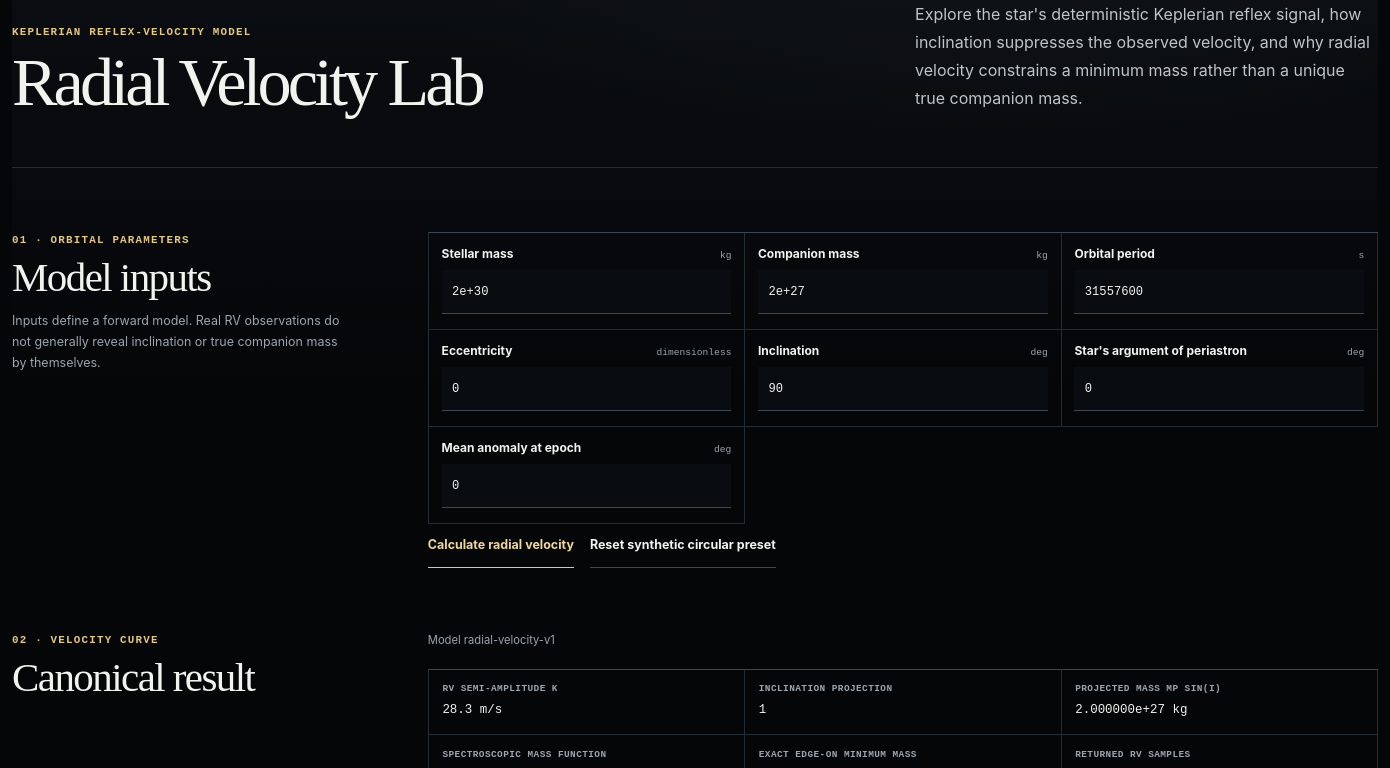
Test: RadialVelocityView › commits only an accepted echoed API state to the share URL
This screenshot has width=1390, height=768.
Replace the text in the number field labelled "Inclination deg" with "40" at (903, 389), box [758,367,1048,411]
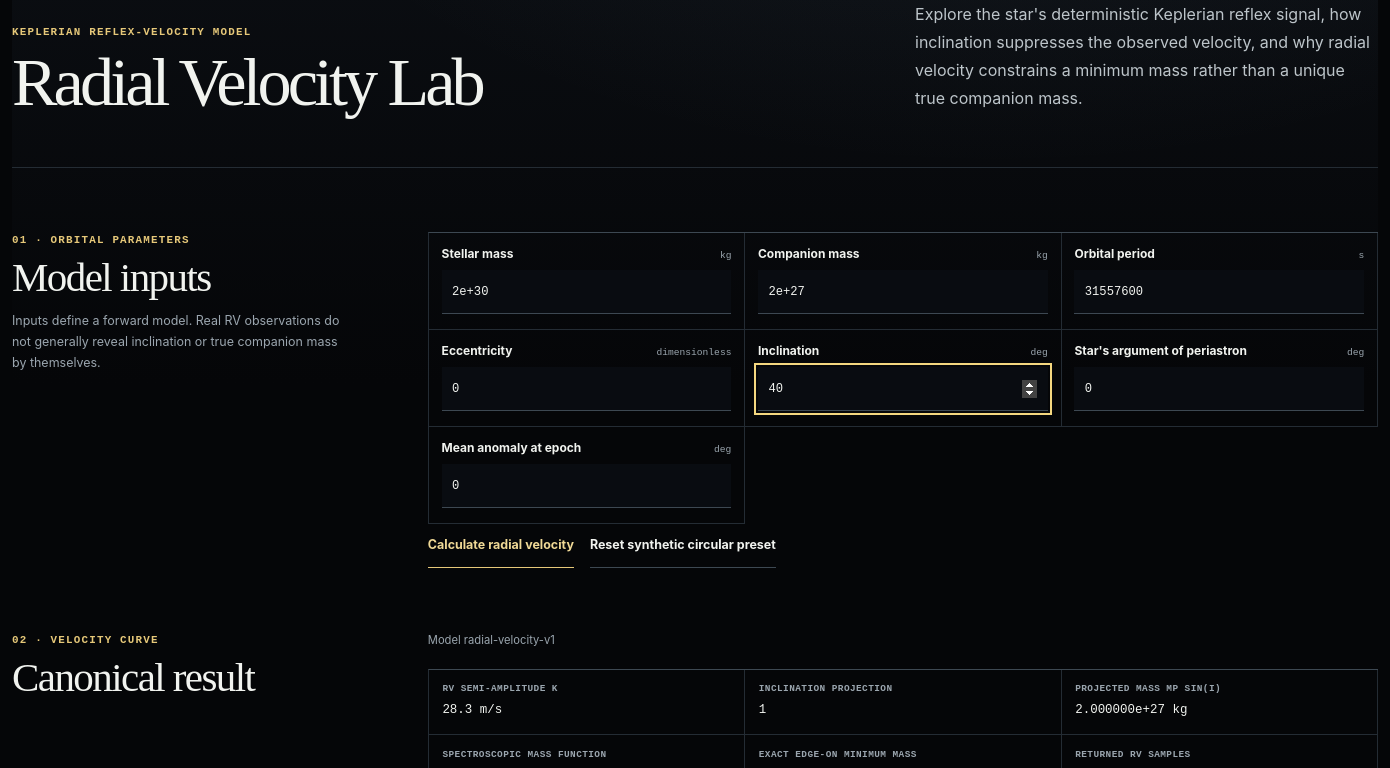
Click the button "Calculate radial velocity" at (501, 546), box [428,524,574,568]
(page scrolled)
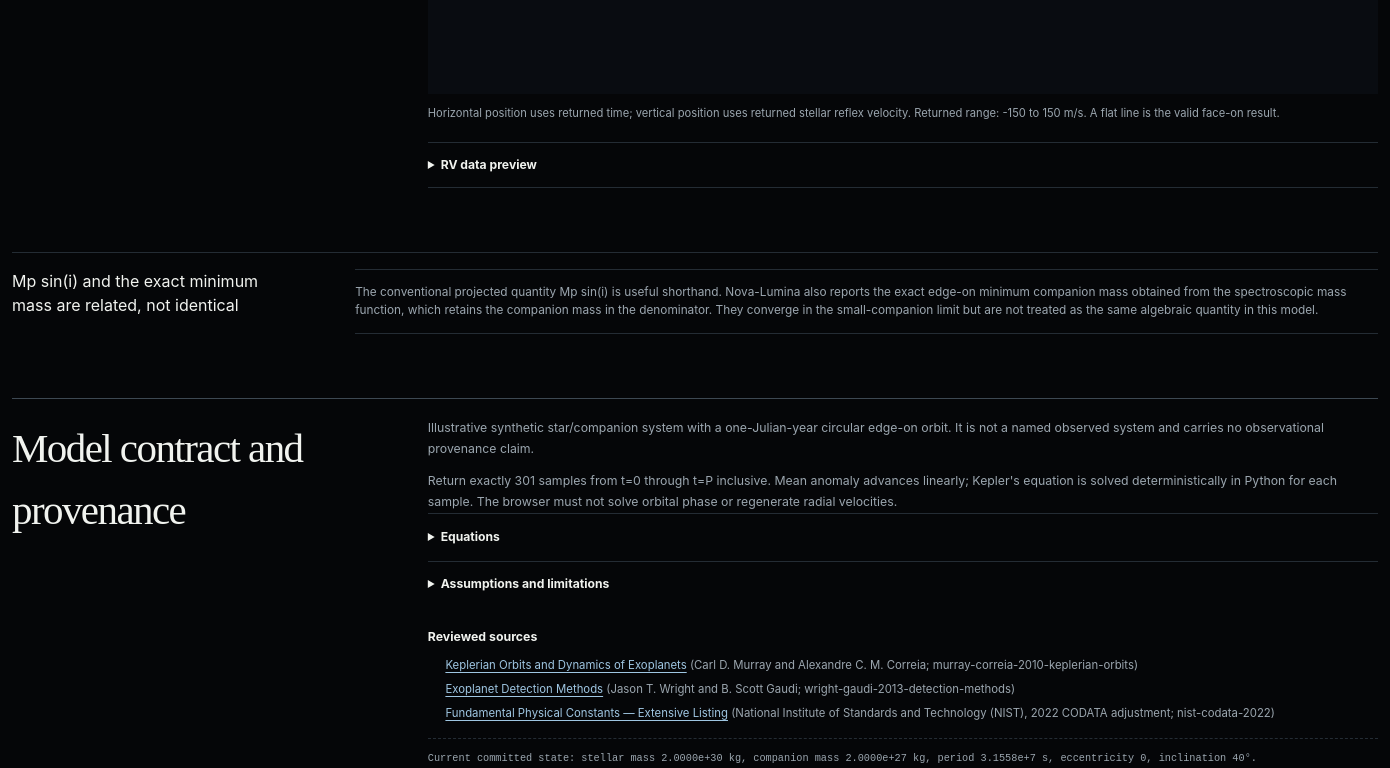
expect the text "inclination 40°" is shown: met, box [428,752,1257,764]
